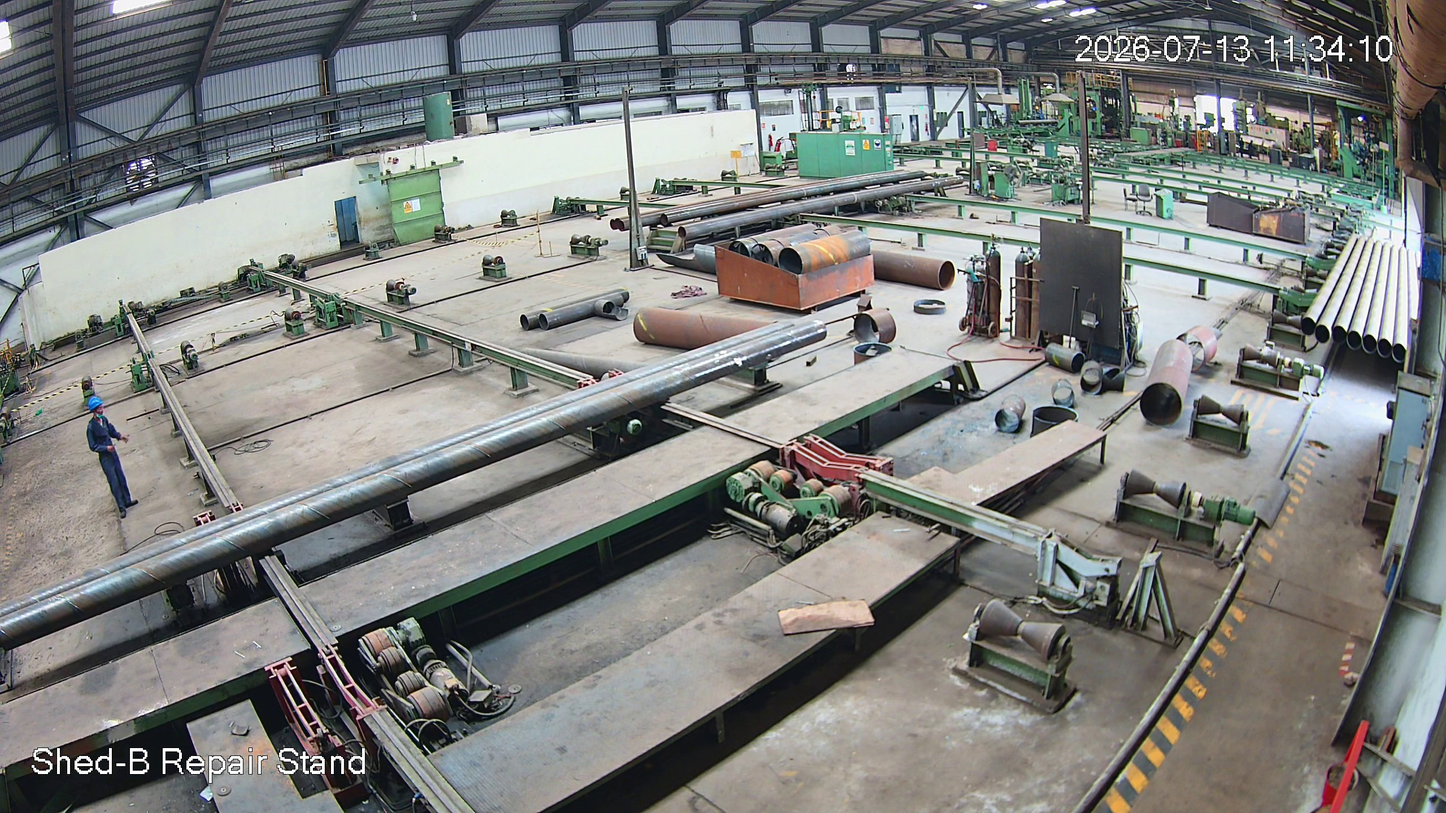Helmet: (86, 390, 107, 419)
Person: (84, 395, 137, 517)
